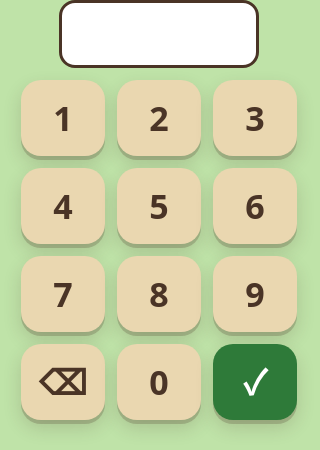
Test: Keypad › unmasked mode shows the digits and has an OK key
Click the button "4". click: (63, 206)
box: [21,168,105,244]
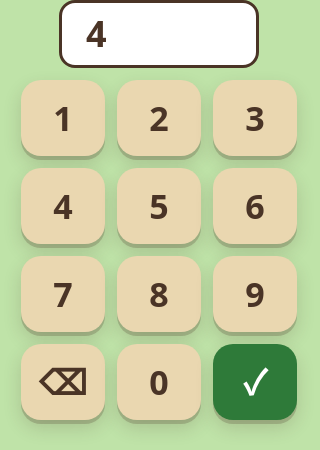
Click the button "2". click: (159, 118)
box: [117,80,201,156]
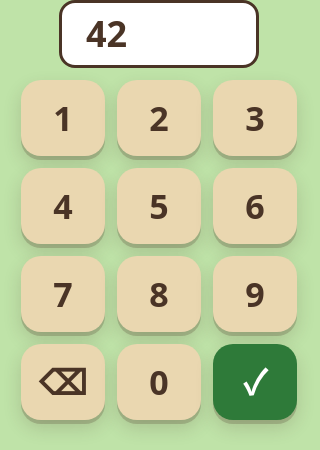
Expected: the button named "Xác nhận" is shown, [213,344,297,420]
Now the text with test id "pad-answer" reads "42", box [86,9,127,58]
